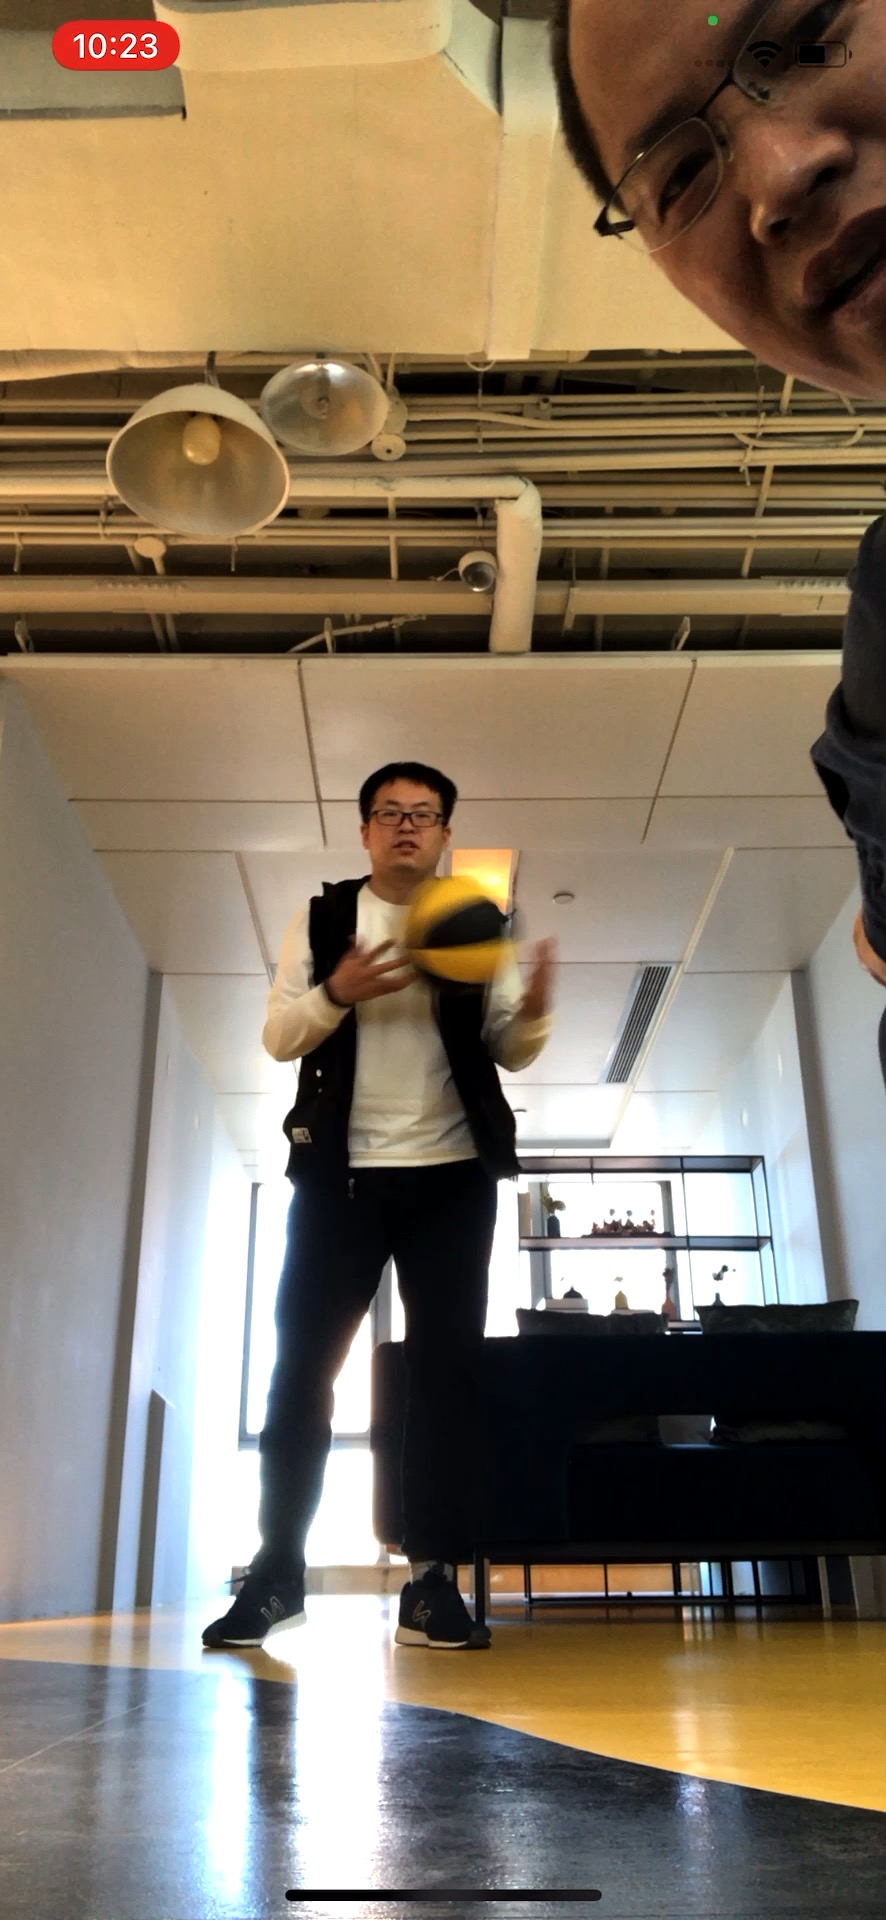ball: (401, 876, 514, 992)
